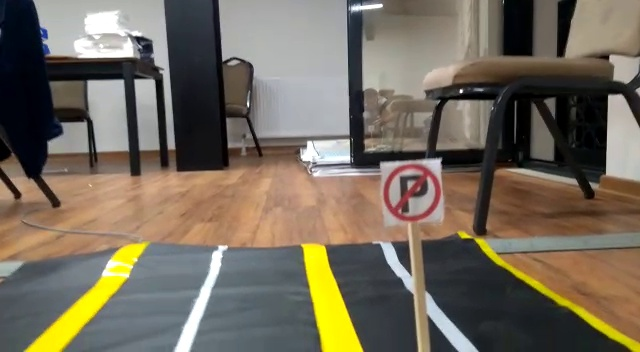park_yapilmaz: (380, 161, 444, 222)
